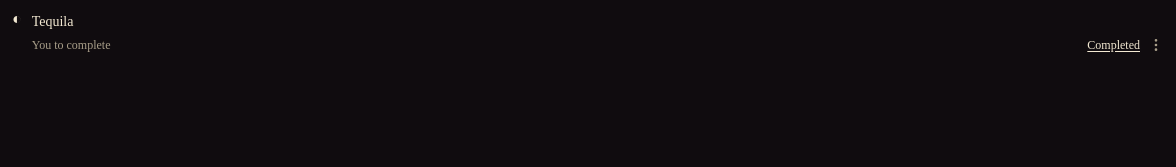
Test: <ShoppingItemCard /> — assign / re-assign picker (spec §6, rule #8) › Claimed (in-progress): ⋯ menu shows 'Re-assign…' instead of 'Assign…'
Step 1. Click the button named "Item options" → click(1156, 45), box [1148,37,1164,53]
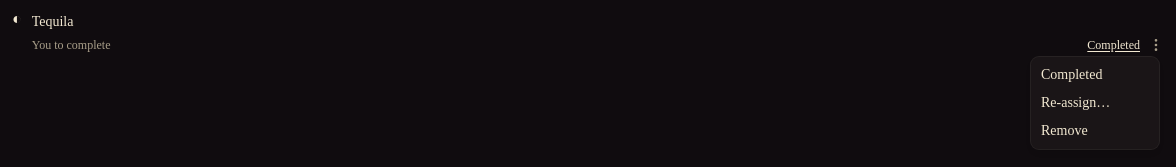
Now the menu item "Re-assign…" is shown, box [1041,95,1110,110]
